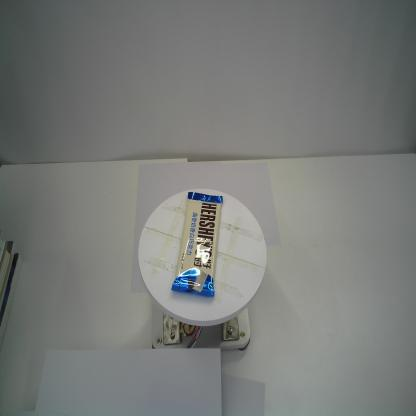Chocolate: (170, 191, 224, 298)
